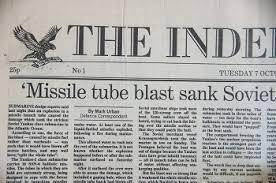Printing industry: (2, 1, 276, 183)
